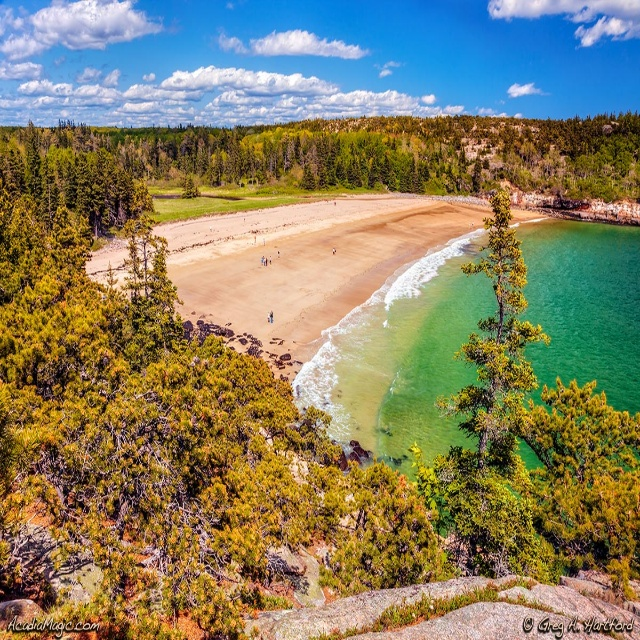linhaEspraiamento: (312, 245, 448, 358), (515, 215, 546, 226)
